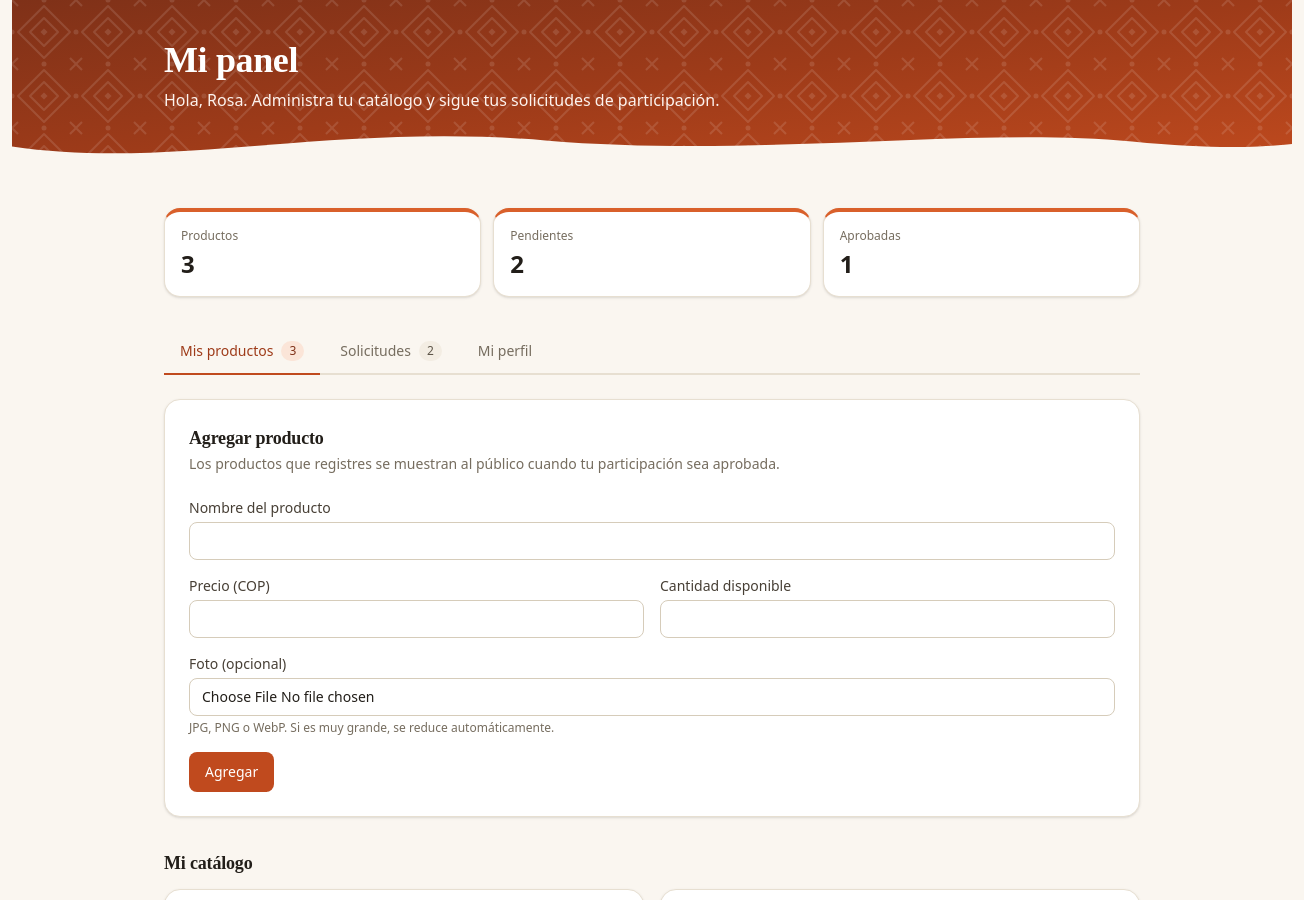
it: PanelArtesano: crear producto › agrega el producto, avisa y recarga el catálogo
Type "  Cesta  " into the field labelled "Nombre del producto" at (652, 541), box top-left (189, 522), bottom-right (1115, 560)
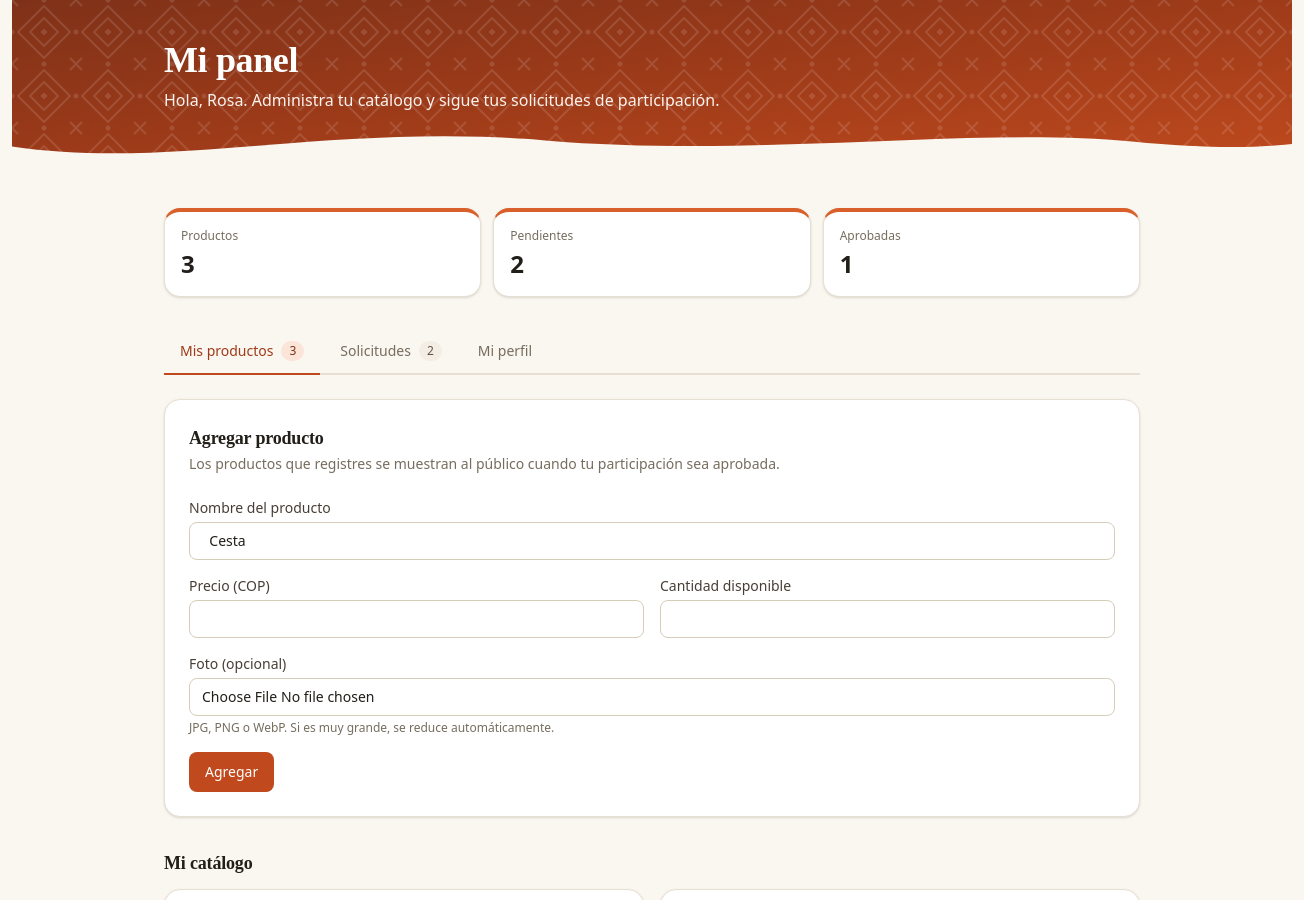
Type "15000" into the number field labelled "Precio (COP)" at (416, 619), box top-left (189, 600), bottom-right (644, 638)
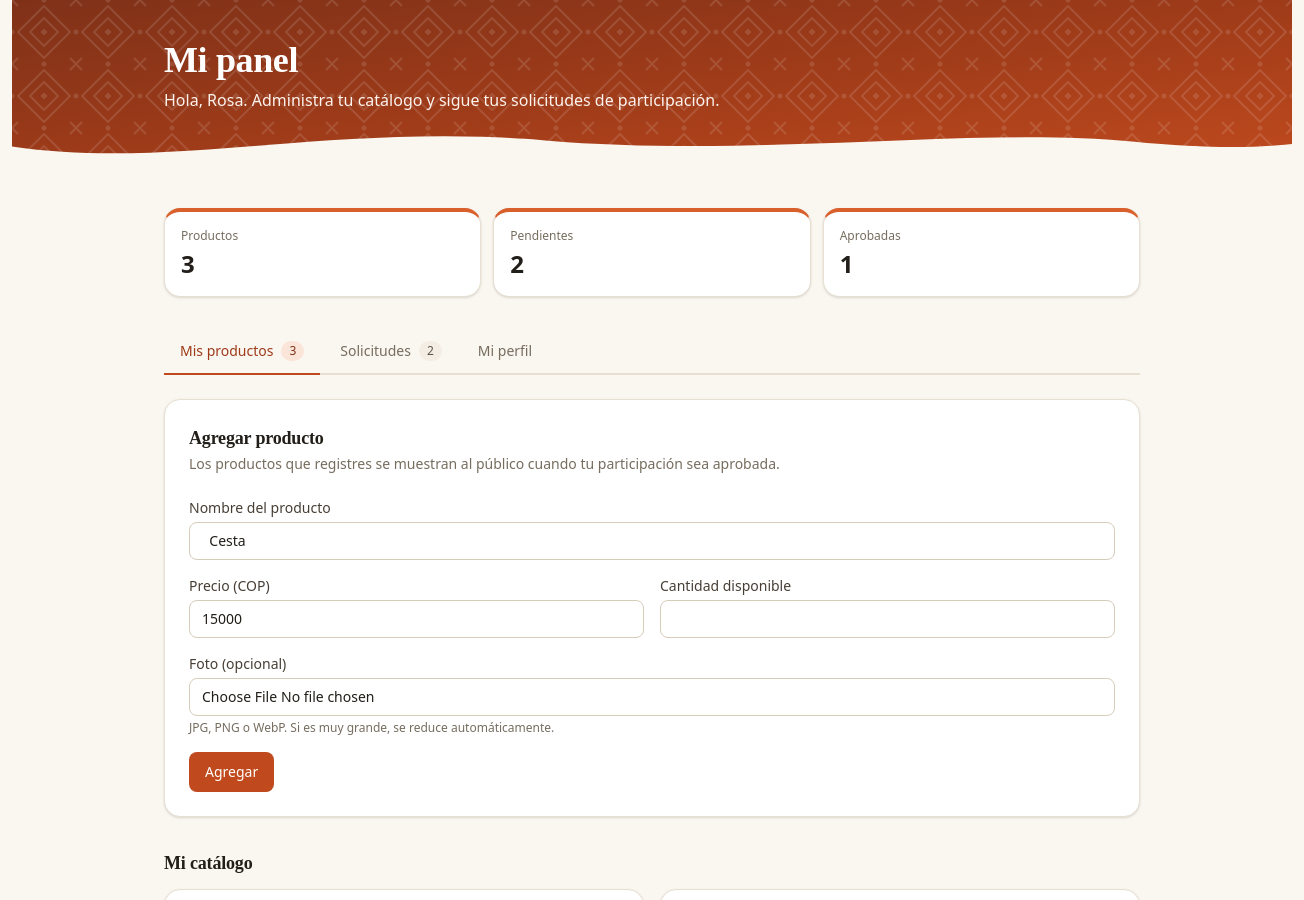
Type "4" into the number field labelled "Cantidad disponible" at (888, 619), box top-left (660, 600), bottom-right (1115, 638)
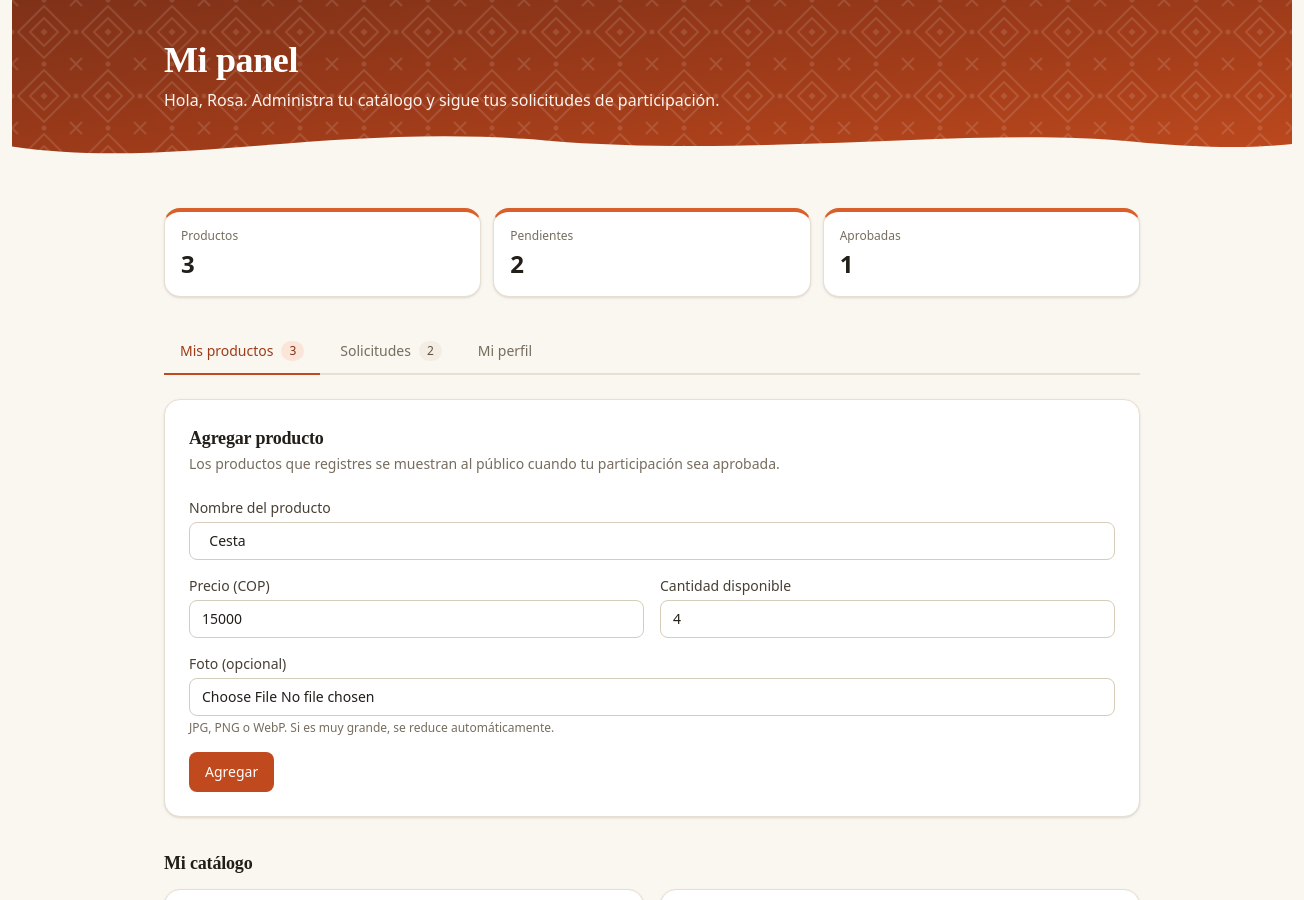
Click the button "Agregar" at (232, 772), box top-left (189, 752), bottom-right (274, 792)
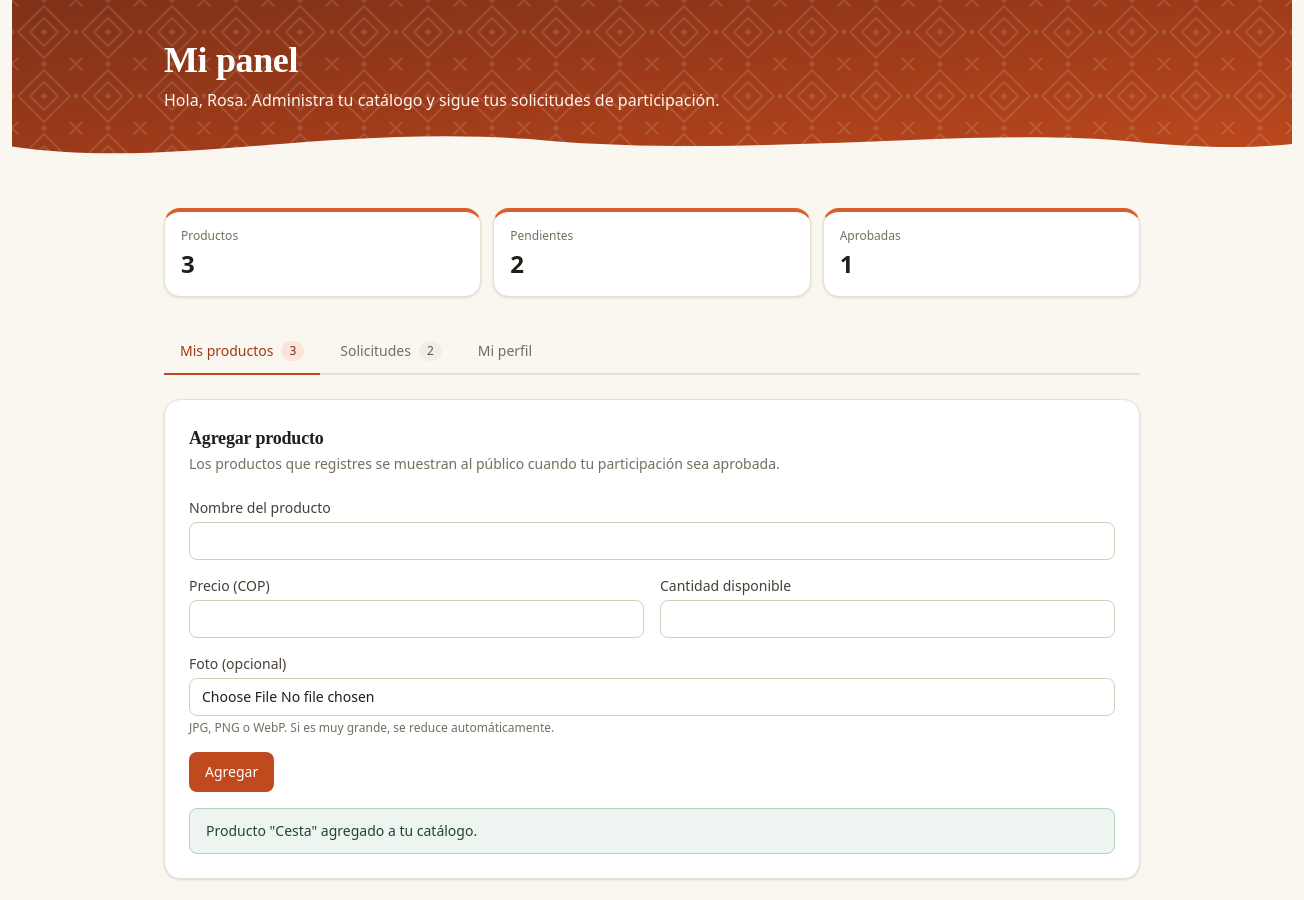
Now the text "Producto \"Cesta\" agregado a tu catálogo." is shown, box top-left (189, 808), bottom-right (1115, 854)
Now the field labelled "Nombre del producto" is empty, box top-left (189, 522), bottom-right (1115, 560)
